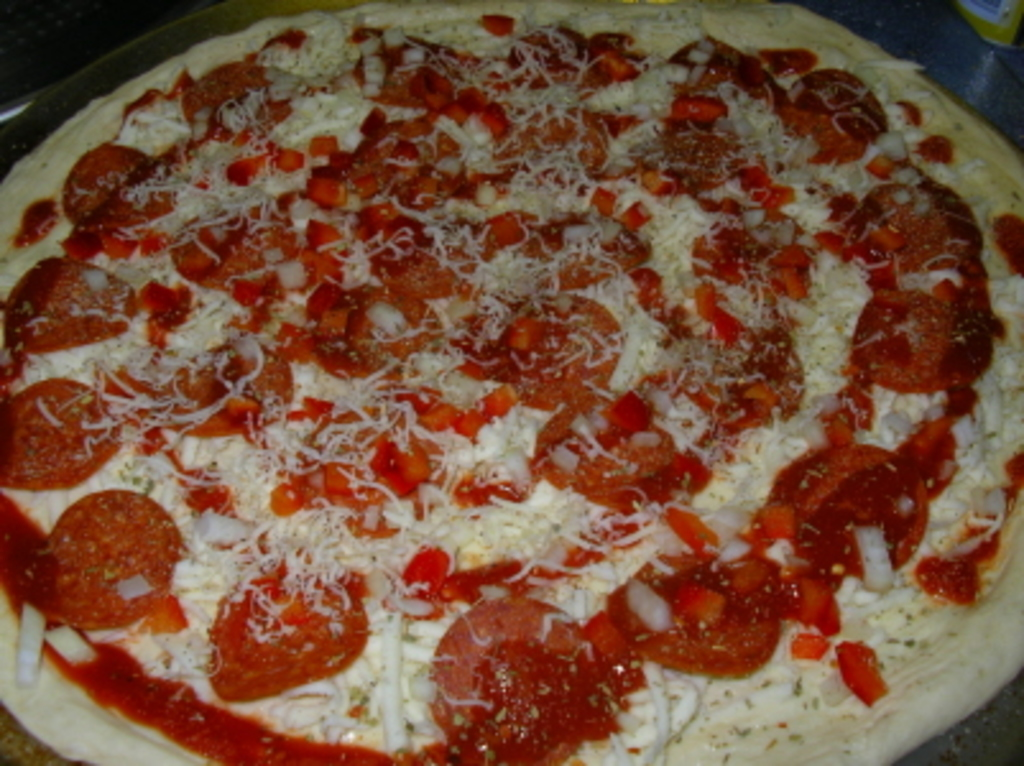Pizza: (12, 150, 503, 617), (48, 385, 653, 755), (656, 372, 1021, 750), (403, 15, 924, 214), (518, 227, 1021, 367), (158, 35, 380, 214), (367, 10, 617, 145)
